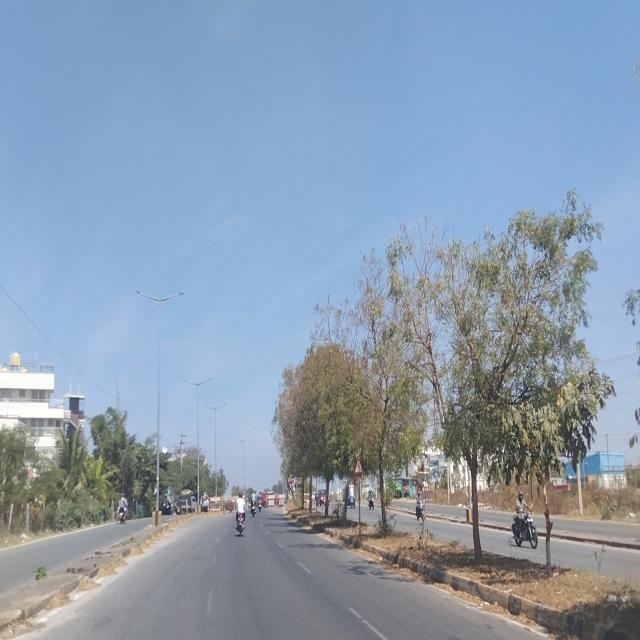bien_nguy_hiem: (353, 458, 364, 476)
